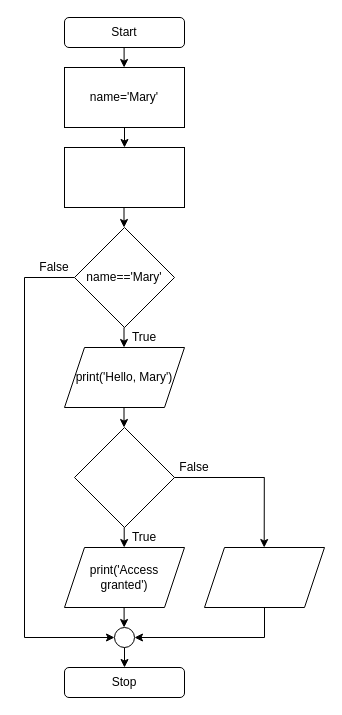
This 342x715 diagram has some shape labels left out. Each missing label, with the centre of its shape:
"password='swordfish'" belongs at pixel 124 177.
"password== 'swordfish'" belongs at pixel 124 477.
"print('Wrong password.')" belongs at pixel 264 577.
